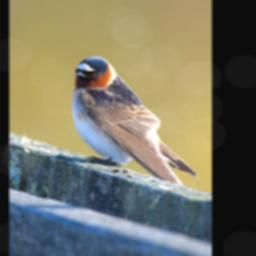Swallow: (70, 55, 199, 191)
